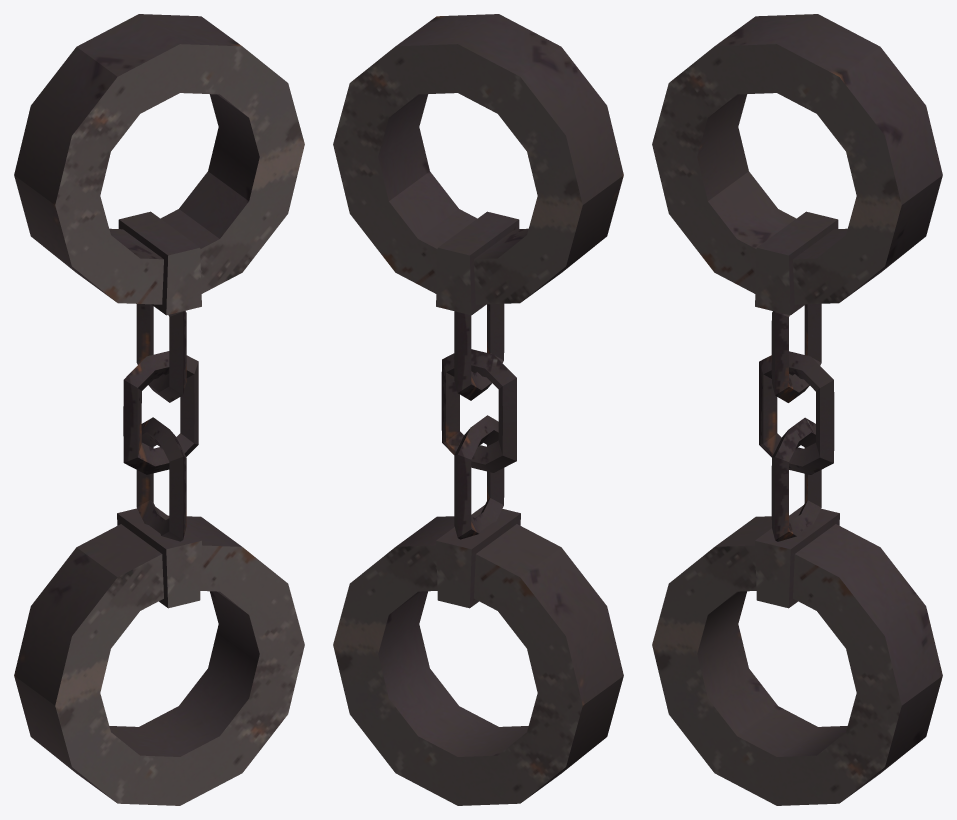
File: BloodRoom_Chackle.fbx
3 renders of one model, left to right at view 1: azimuth 30°, elevation 25°; view 2: azimuth 150°, elevation 25°; view 3: azimuth 330°, elevation 25°, orthographic.
Visible parts, largest first — view 1: Cylinder; view 2: Cylinder; view 3: Cylinder.
Boxes of the visible parts, box(x1,y1,x2,y2) form: Cylinder: box(14, 14, 304, 805); Cylinder: box(333, 14, 623, 805); Cylinder: box(652, 14, 942, 805).
Size of the model in its own units: 44.48 by 130 by 15.22.
